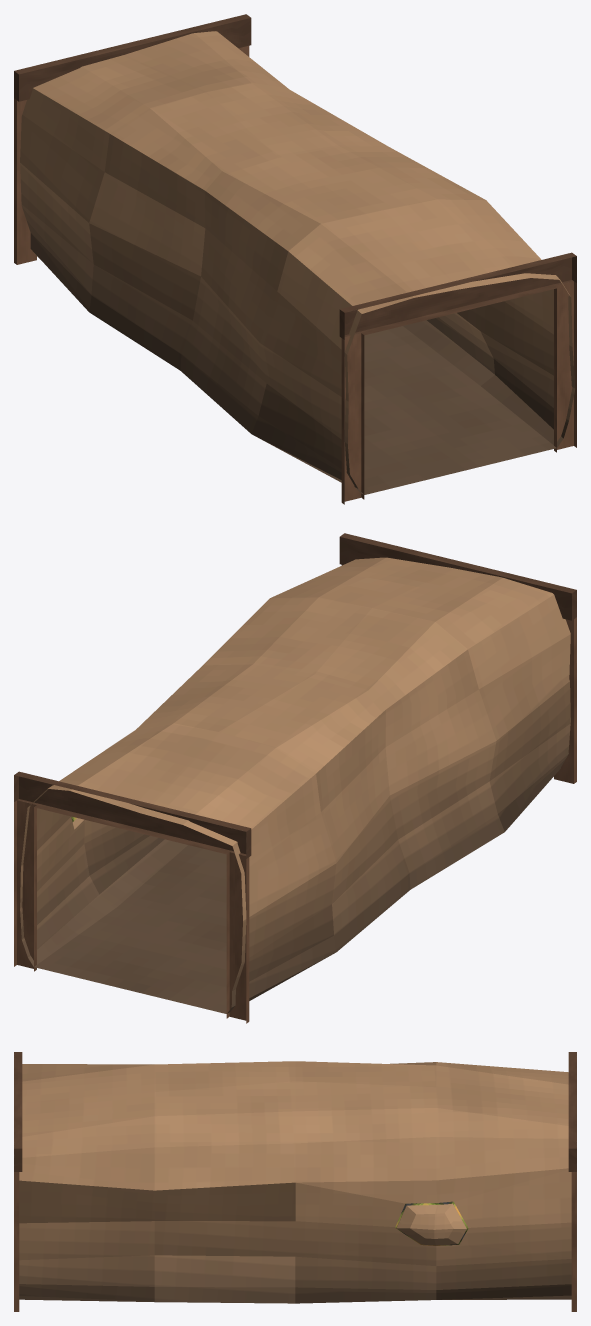
Rendered from SM_OreHallway1.fbx.
3 views of the same model, one above another, from view 1: azimuth 30°, elevation 25°; view 2: azimuth 150°, elevation 25°; view 3: azimuth 270°, elevation 25° (orthographic). The views are drawn at different scales.
Parts seen in each view (by area): view 1: Hallway.001, Support -y, Support y; view 2: Hallway.001, Support y, Support -y; view 3: Hallway.001, Support -y, Support y, OreVeinCopper.001.
Part boxes in pixels (x1,y1,x2,y2): Hallway.001: [20, 31, 575, 494]; Support -y: [339, 252, 576, 504]; Support y: [14, 14, 251, 264]; Hallway.001: [20, 557, 570, 1013]; Support y: [14, 771, 251, 1023]; Support -y: [339, 533, 576, 783]; Hallway.001: [19, 1061, 571, 1303]; Support -y: [14, 1052, 22, 1311]; Support y: [568, 1052, 576, 1311]; OreVeinCopper.001: [395, 1201, 468, 1245].
Size of the model in its own units: 465 by 344 by 1000.
